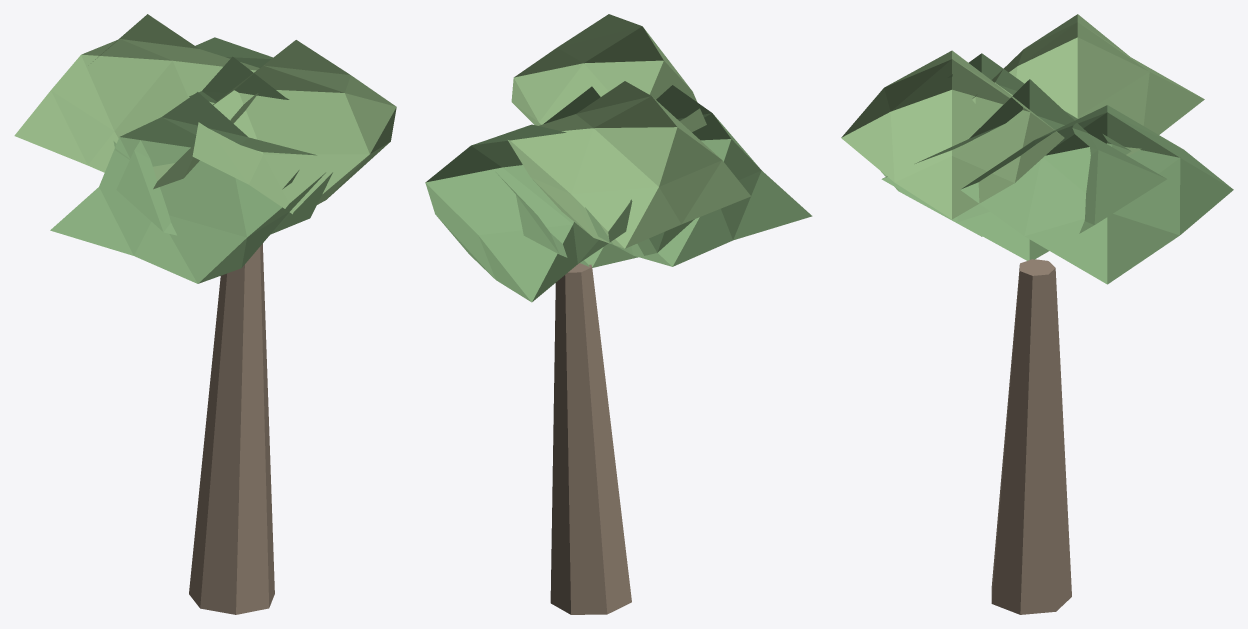
File: broadleaf_v13.glb
3 views of the same model, side by side, from view 1: azimuth 30°, elevation 25°; view 2: azimuth 150°, elevation 25°; view 3: azimuth 270°, elevation 25° (orthographic). The views are drawn at different scales.
Parts seen in each view (by area): view 1: lod0; view 2: lod0; view 3: lod0.
Boxes of the visible parts, x1,y1,x2,y2 form: lod0: (14,14,396,614); lod0: (425,14,812,614); lod0: (841,14,1233,614).
Size of what is drawn, in the model's own units: 3.22 by 5.24 by 3.34.
